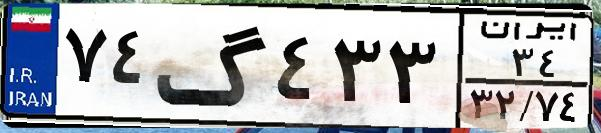2: (495, 70, 520, 125)
3: (385, 28, 445, 110), (330, 28, 385, 110), (508, 27, 537, 80), (470, 70, 495, 125)
4: (270, 28, 330, 110), (110, 28, 156, 98), (560, 70, 590, 125), (537, 27, 568, 80)
7: (57, 26, 110, 100), (535, 70, 560, 125)
گ: (156, 12, 270, 120)
